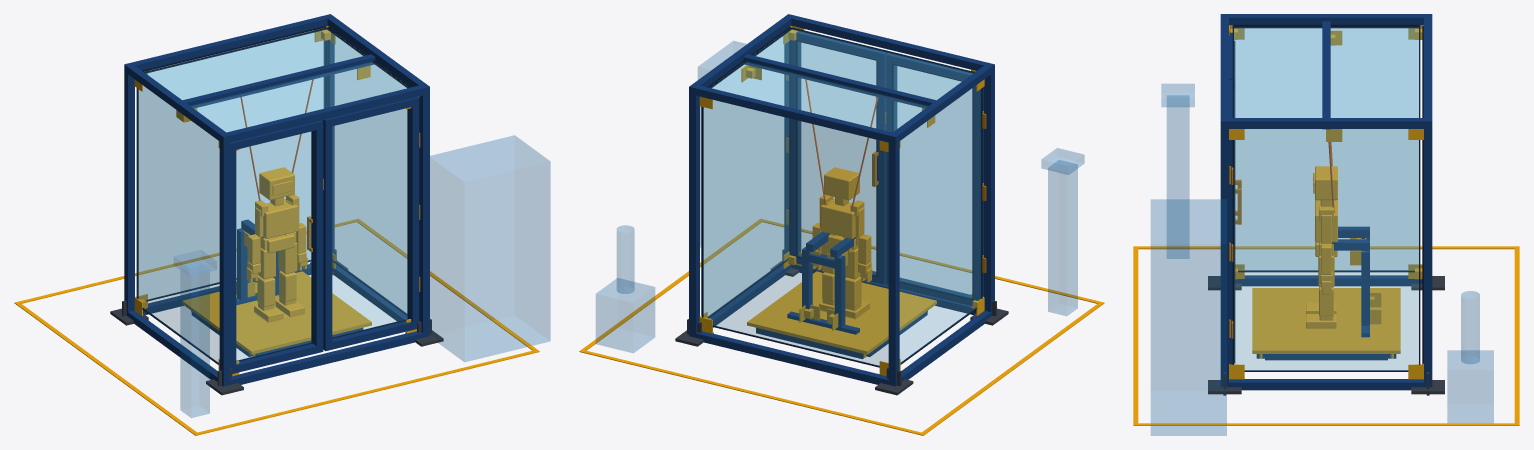
Rendered from HR30_first_energization_cell_hardware_with_robot_candidate.glb.
3 renders of one model, left to right at view 1: azimuth 30°, elevation 25°; view 2: azimuth 150°, elevation 25°; view 3: azimuth 270°, elevation 25°, orthographic. The views are drawn at different scales.
Parts seen in each view (by area): view 1: PN-REAR, INSTRUMENT-STATION, PN-L, PN-DR, PN-DL, PN-R, PN-ROOF, HR30_P00_NEUTRAL_ROBOT_SHA_BOUND, ESTOP-STATION, PLATFORM, MF-UFL, DR-L-VI (+30 smaller); view 2: PN-REAR, PN-L, PN-R, PN-DL, PN-ROOF, PN-DR, PLATFORM, HR30_P00_NEUTRAL_ROBOT_SHA_BOUND, ESTOP-STATION, FIRE-STATION, MF-URL, MF-URR (+32 smaller); view 3: PN-R, PN-L, INSTRUMENT-STATION, PN-ROOF, PLATFORM, FIRE-STATION, ESTOP-STATION, HR30_P00_NEUTRAL_ROBOT_SHA_BOUND, MF-UFR, MF-URR, MF-BYR, MF-TYR (+21 smaller).
Part boxes in pixels (x1,y1,x2,y2): PN-REAR: (139,33,324,299); INSTRUMENT-STATION: (430,135,550,361); PN-L: (138,86,219,362); PN-DR: (332,108,407,336); PN-DL: (236,132,311,360); PN-R: (330,36,406,312); PN-ROOF: (146,29,406,131); HR30_P00_NEUTRAL_ROBOT_SHA_BOUND: (246,167,307,322); ESTOP-STATION: (174,250,216,417); PLATFORM: (182,271,371,354); MF-UFL: (219,138,230,381); DR-L-VI: (312,120,323,353); PN-REAR: (703,100,888,365); PN-L: (900,86,980,362); PN-R: (704,36,788,315); PN-DL: (894,65,971,297); PN-ROOF: (712,29,972,131); PN-DR: (798,42,875,274); PLATFORM: (747,271,936,354); HR30_P00_NEUTRAL_ROBOT_SHA_BOUND: (812,167,872,319); ESTOP-STATION: (1041,148,1084,315); FIRE-STATION: (596,225,654,352); MF-URL: (888,138,899,381); MF-URR: (689,90,699,336); PN-R: (1234,129,1418,370); PN-L: (1235,29,1418,270); INSTRUMENT-STATION: (1151,199,1226,435); PN-ROOF: (1234,27,1418,117); PLATFORM: (1252,288,1400,353); FIRE-STATION: (1447,291,1493,422); ESTOP-STATION: (1161,84,1194,258); HR30_P00_NEUTRAL_ROBOT_SHA_BOUND: (1306,166,1337,328); MF-UFR: (1220,125,1228,386); MF-URR: (1424,125,1432,386); MF-BYR: (1229,379,1423,390); MF-TYR: (1229,118,1423,128).
Size of the model in its own units: 2110 by 1415 by 1824.
